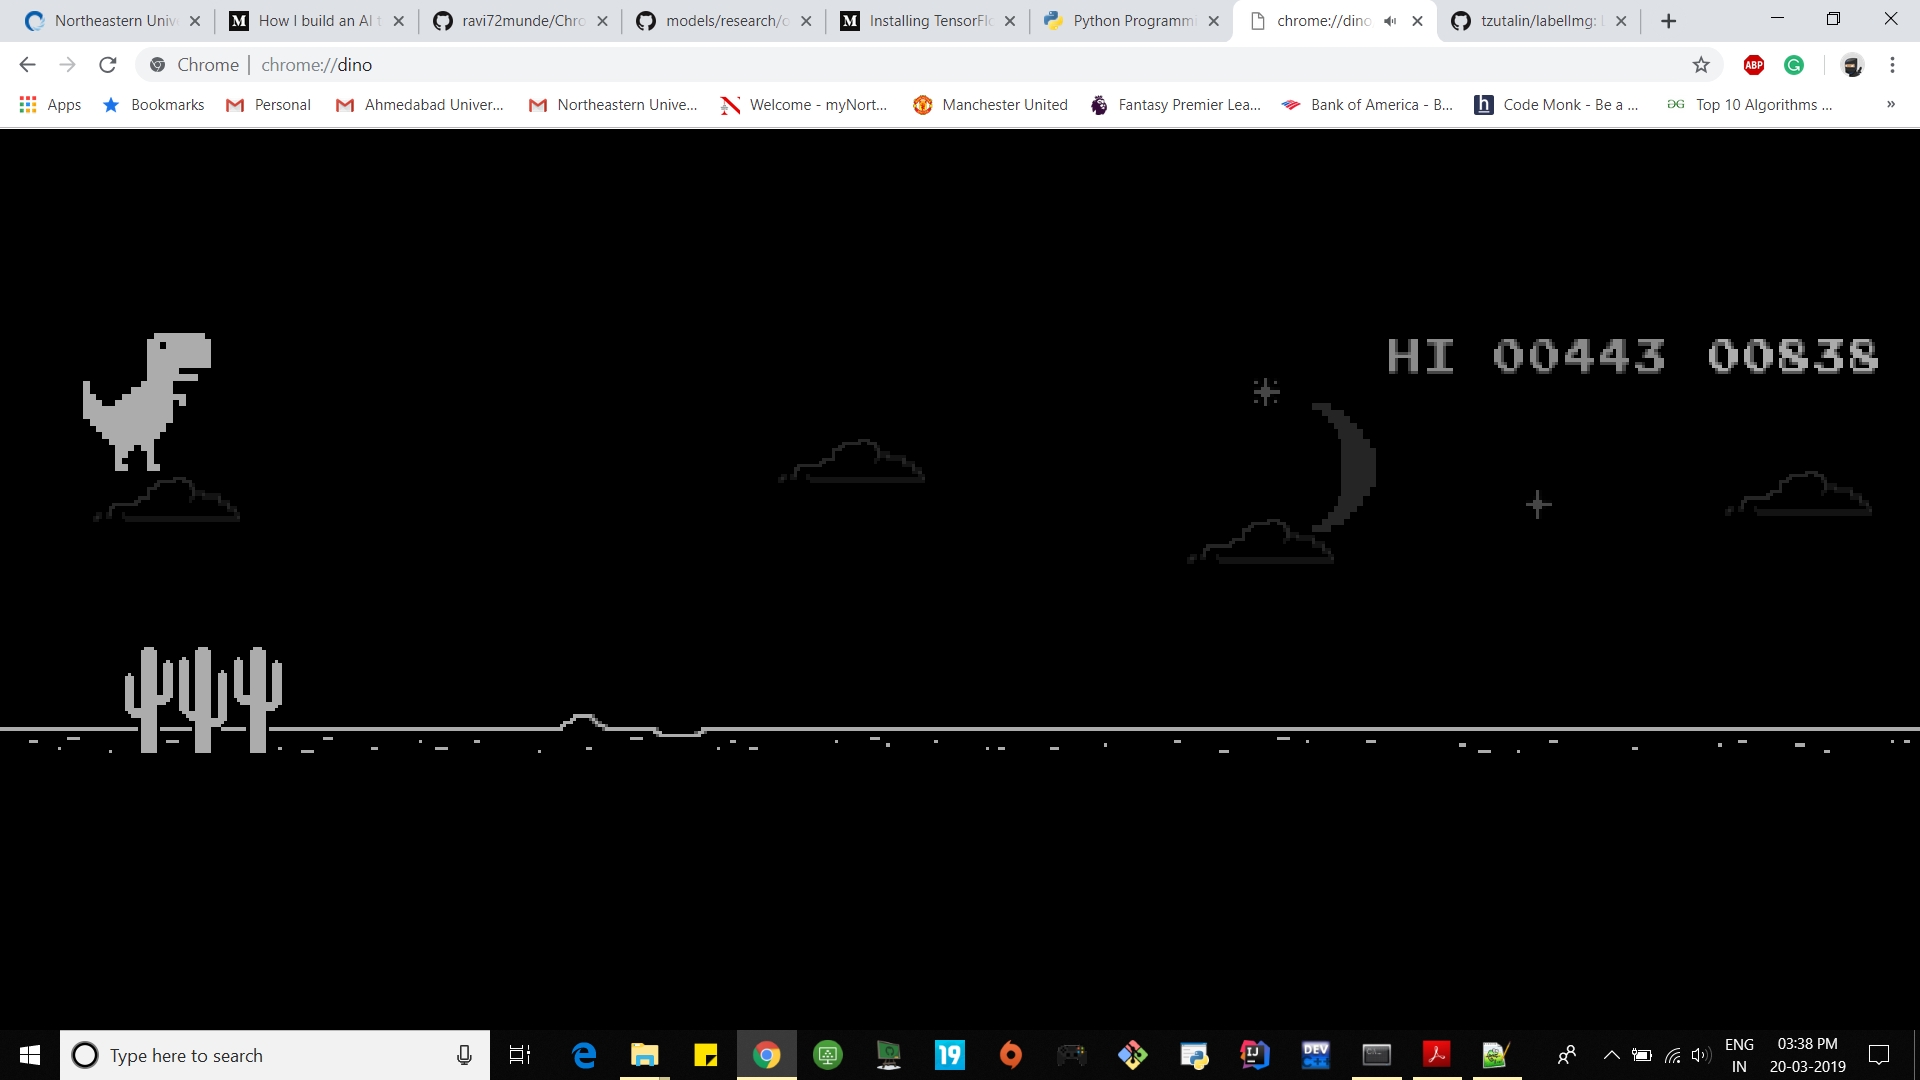cactus-3: (123, 646, 284, 756)
dino: (83, 331, 214, 469)
